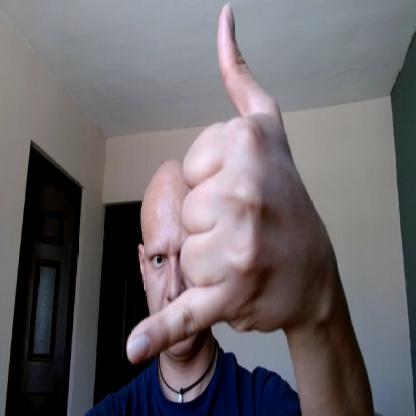Y: (126, 4, 302, 362)
